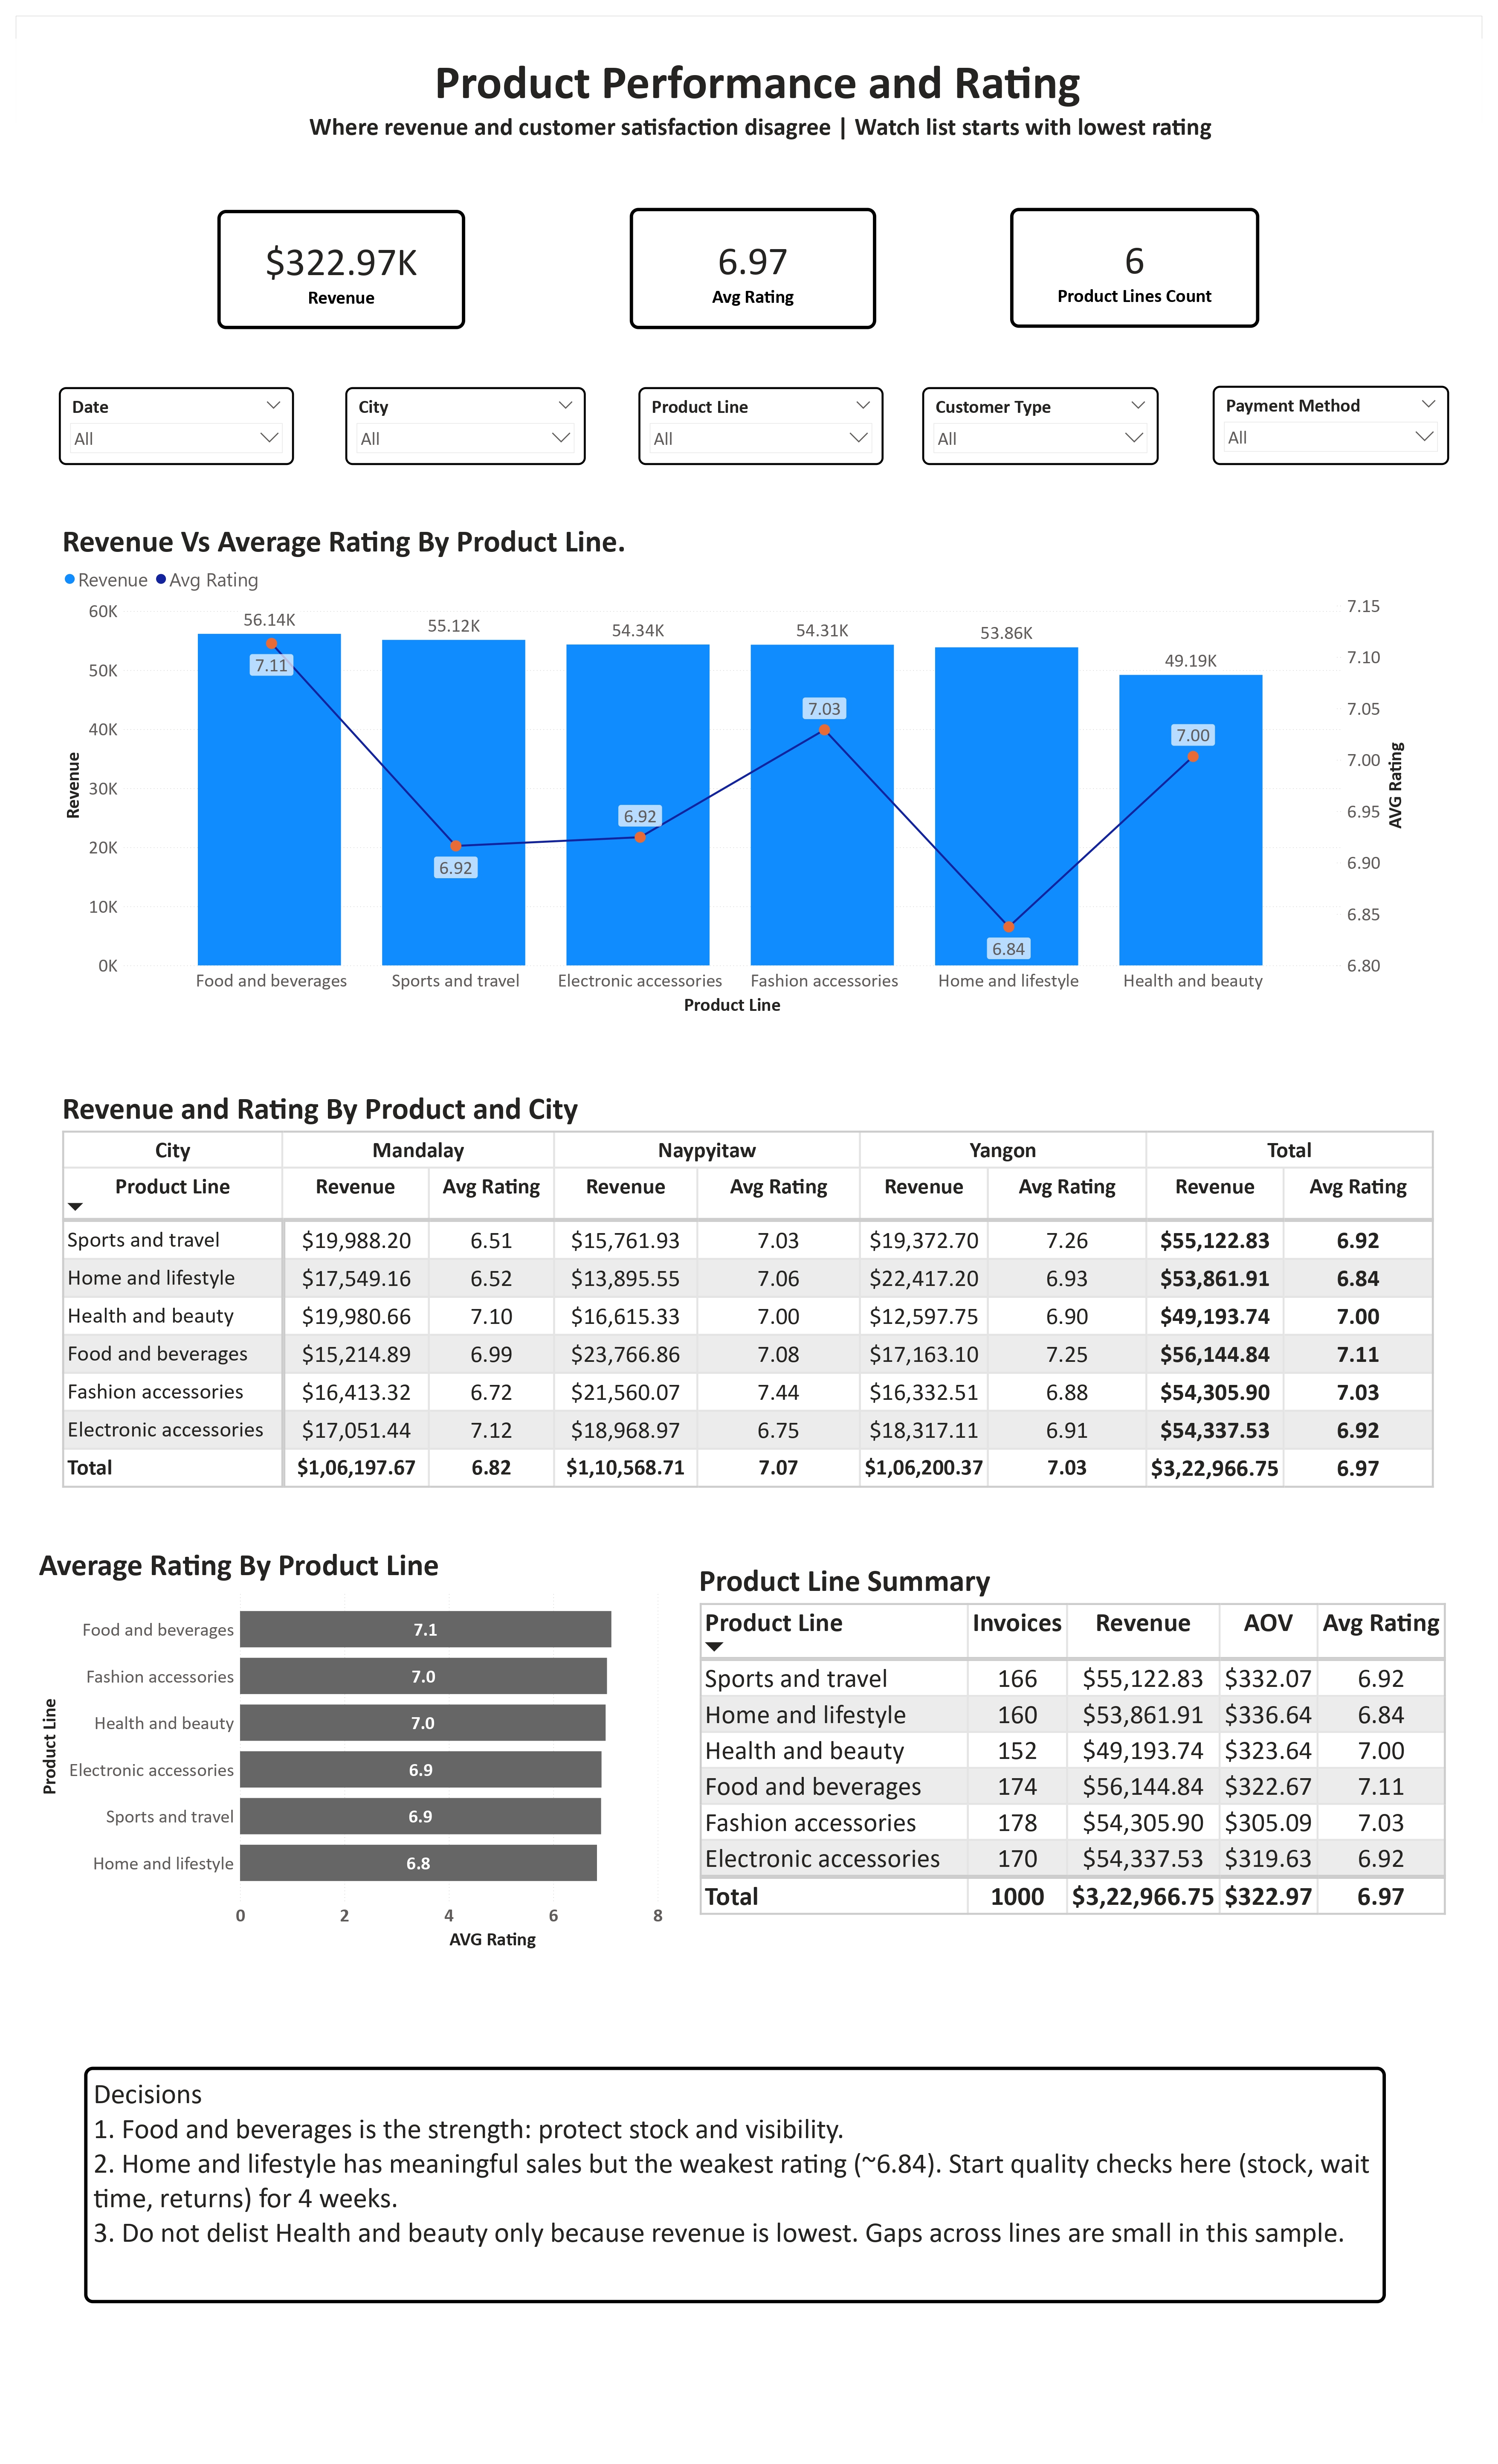

The page's visual inventory and layout, read from the dashboard file:
{"tool":"powerbi","page":{"name":"Page 2","canvas":[2200,3650],"ordinal":1},"visuals":[{"type":"slicer","fields":{"Values":["DateTable.Date"]},"box":[63.8,557.4,353.2,117],"z":0},{"type":"slicer","fields":{"Values":["sales_transactions.city"]},"box":[493.6,557.4,361.7,117],"z":1000},{"type":"slicer","fields":{"Values":["sales_transactions.product line"]},"box":[934,557.4,368.1,117],"z":2000},{"type":"slicer","fields":{"Values":["sales_transactions.customer_type"]},"box":[1359.6,557.4,355.3,117],"z":3000},{"type":"card","fields":{"Values":["sales_transactions.Revenue"]},"box":[302.3,290.7,372.1,179.1],"z":4000},{"type":"slicer","fields":{"Values":["sales_transactions.payment_method"]},"box":[1795.7,555.3,355.3,119.1],"z":5000},{"type":"card","fields":{"Values":["sales_transactions.Avg Rating"]},"box":[920.9,288.4,369.8,181.4],"z":6000},{"type":"card","fields":{"Values":["sales_transactions.Product Lines Count"]},"box":[1492,288,374,180],"z":7000},{"type":"textbox","box":[102.1,48.9,1991.5,148.9],"z":8000},{"type":"lineClusteredColumnComboChart","title":"Revenue Vs Average Rating By Product Line.","fields":{"Category":["sales_transactions.product line"],"Y":["sales_transactions.Revenue"],"Y2":["sales_transactions.Avg Rating"]},"box":[64.4,760.3,2028.8,745.6],"z":9000},{"type":"clusteredBarChart","title":"Average Rating By Product Line","fields":{"Category":["sales_transactions.product line"],"Y":["sales_transactions.Avg Rating"]},"box":[28.9,2295.6,1077.8,613.3],"z":10000},{"type":"pivotTable","title":"Revenue and Rating By Product and City","fields":{"Rows":["sales_transactions.product line"],"Columns":["sales_transactions.city"],"Values":["sales_transactions.Revenue","sales_transactions.Avg Rating"]},"box":[64.4,1610.9,2085.9,629.6],"z":11000},{"type":"tableEx","title":"Product Line Summary","fields":{"Values":["sales_transactions.product line","sales_transactions.Invoices","sales_transactions.Revenue","sales_transactions.AOV","sales_transactions.Avg Rating"]},"box":[1020,2320,1131.1,562.2],"z":12000},{"type":"textbox","box":[102.2,3077.8,1953.3,355.6],"z":13000}]}

Visuals, with their boxes on the page's 2200x3650 design canvas (x1, y1, x2, y2). These are canvas units, not pixel positions in the 1498x2464 screenshot, which may show the page scaled, cropped or inside an application window:
slicer - DateTable.Date: box=[64, 557, 417, 674]
slicer - sales_transactions.city: box=[494, 557, 855, 674]
slicer - sales_transactions.product line: box=[934, 557, 1302, 674]
slicer - sales_transactions.customer_type: box=[1360, 557, 1715, 674]
card - sales_transactions.Revenue: box=[302, 291, 674, 470]
slicer - sales_transactions.payment_method: box=[1796, 555, 2151, 674]
card - sales_transactions.Avg Rating: box=[921, 288, 1291, 470]
card - sales_transactions.Product Lines Count: box=[1492, 288, 1866, 468]
textbox: box=[102, 49, 2094, 198]
"Revenue Vs Average Rating By Product Line." lineClusteredColumnComboChart: box=[64, 760, 2093, 1506]
"Average Rating By Product Line" clusteredBarChart: box=[29, 2296, 1107, 2909]
"Revenue and Rating By Product and City" pivotTable: box=[64, 1611, 2150, 2240]
"Product Line Summary" tableEx: box=[1020, 2320, 2151, 2882]
textbox: box=[102, 3078, 2056, 3433]
